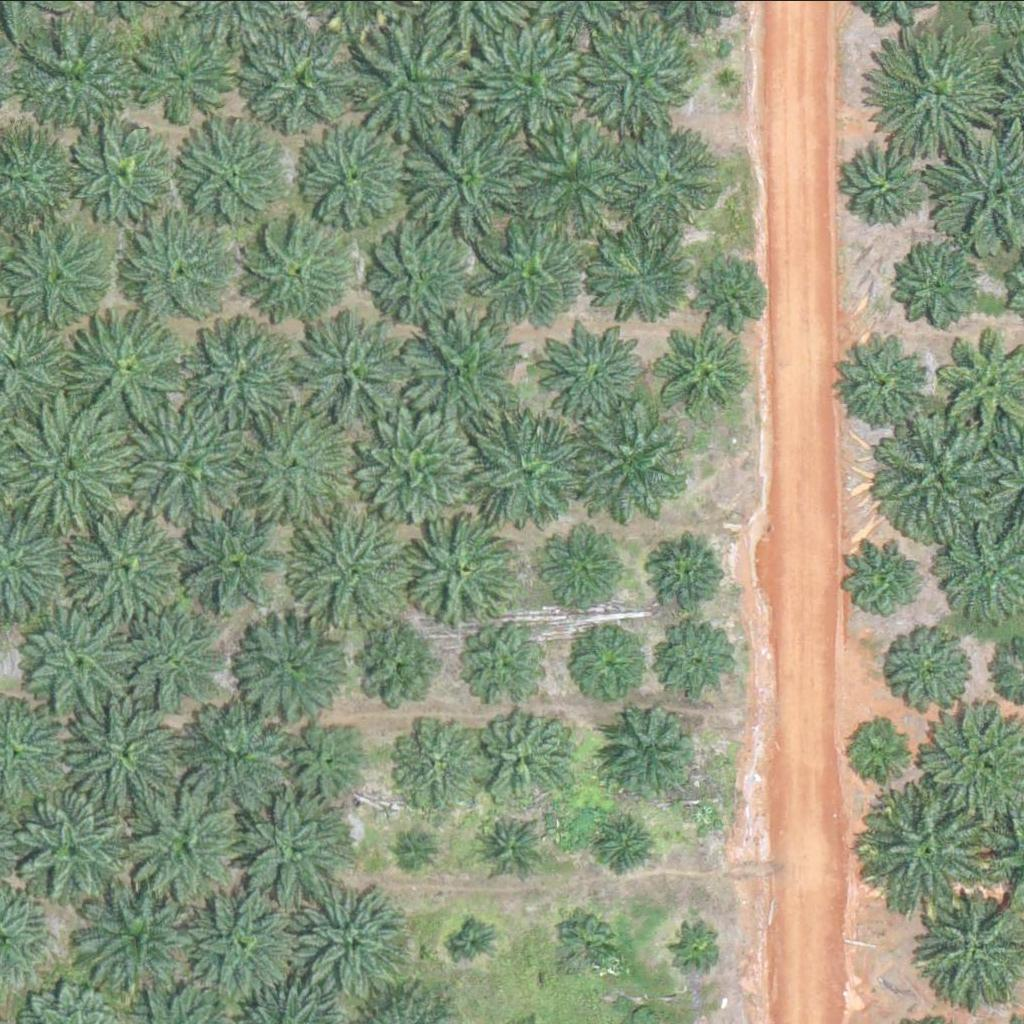Kelapa_Sawit: (878, 30, 1004, 155), (877, 416, 1003, 541), (872, 786, 998, 911), (249, 16, 375, 141), (76, 870, 202, 995), (3, 403, 128, 528), (184, 887, 298, 1000), (616, 121, 729, 234), (513, 119, 626, 232), (401, 115, 514, 228), (122, 216, 235, 329), (467, 217, 580, 330), (72, 307, 185, 420), (177, 317, 290, 430), (295, 320, 408, 433), (569, 407, 682, 520), (401, 517, 514, 630), (241, 614, 354, 727), (69, 696, 182, 809), (170, 710, 283, 823), (293, 889, 406, 1002), (21, 599, 134, 712), (230, 797, 344, 909), (13, 27, 127, 139), (354, 22, 467, 134), (469, 23, 582, 135), (584, 20, 697, 132), (285, 115, 398, 227), (172, 119, 285, 231), (399, 312, 512, 424), (545, 316, 658, 428), (126, 409, 239, 521), (235, 411, 348, 523), (354, 413, 467, 525), (469, 417, 582, 529), (291, 515, 404, 627), (128, 786, 241, 898), (64, 511, 177, 623), (18, 791, 131, 903), (835, 330, 936, 430), (241, 216, 342, 316), (365, 225, 466, 325), (587, 224, 688, 324), (188, 513, 289, 613), (600, 704, 701, 804), (130, 25, 230, 125), (71, 122, 171, 222), (889, 626, 978, 714), (657, 332, 745, 420), (391, 721, 479, 809), (485, 713, 573, 801), (843, 535, 931, 622), (538, 528, 626, 615), (135, 617, 223, 704), (361, 626, 437, 701), (852, 148, 928, 223), (900, 247, 976, 322), (654, 532, 730, 607), (476, 624, 552, 699), (658, 621, 734, 696), (294, 728, 370, 803), (581, 636, 644, 699), (599, 812, 662, 875), (846, 715, 909, 778), (554, 917, 617, 980), (698, 262, 761, 325), (676, 924, 727, 974), (484, 822, 534, 872), (395, 826, 433, 864), (457, 922, 495, 959)
